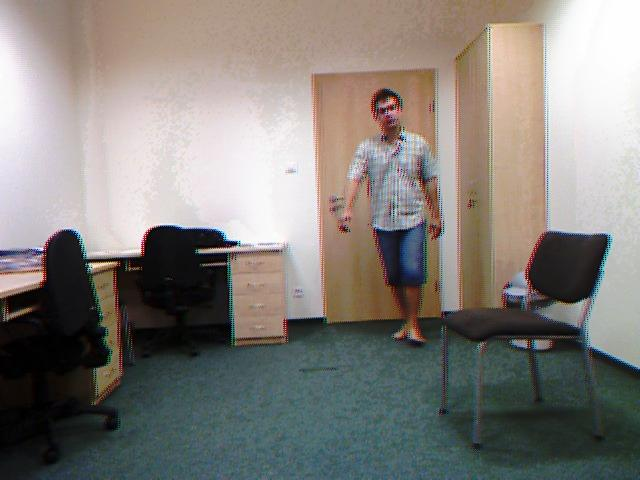walking: (347, 90, 440, 345)
